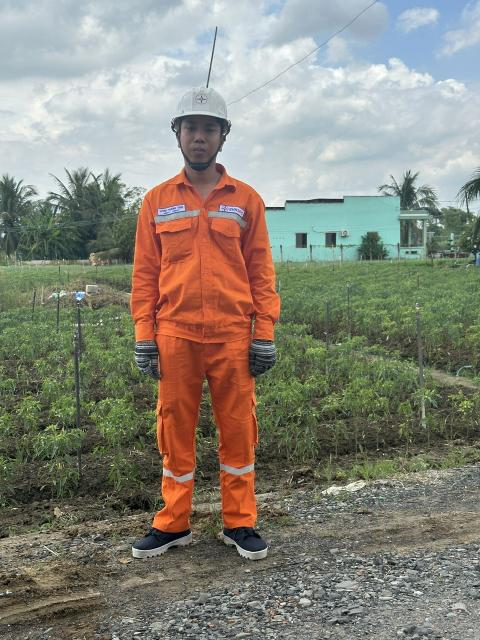gloves: (115, 329, 165, 383), (242, 332, 287, 381)
helmet: (167, 73, 239, 137)
shoes: (114, 509, 196, 566), (211, 522, 271, 567)
